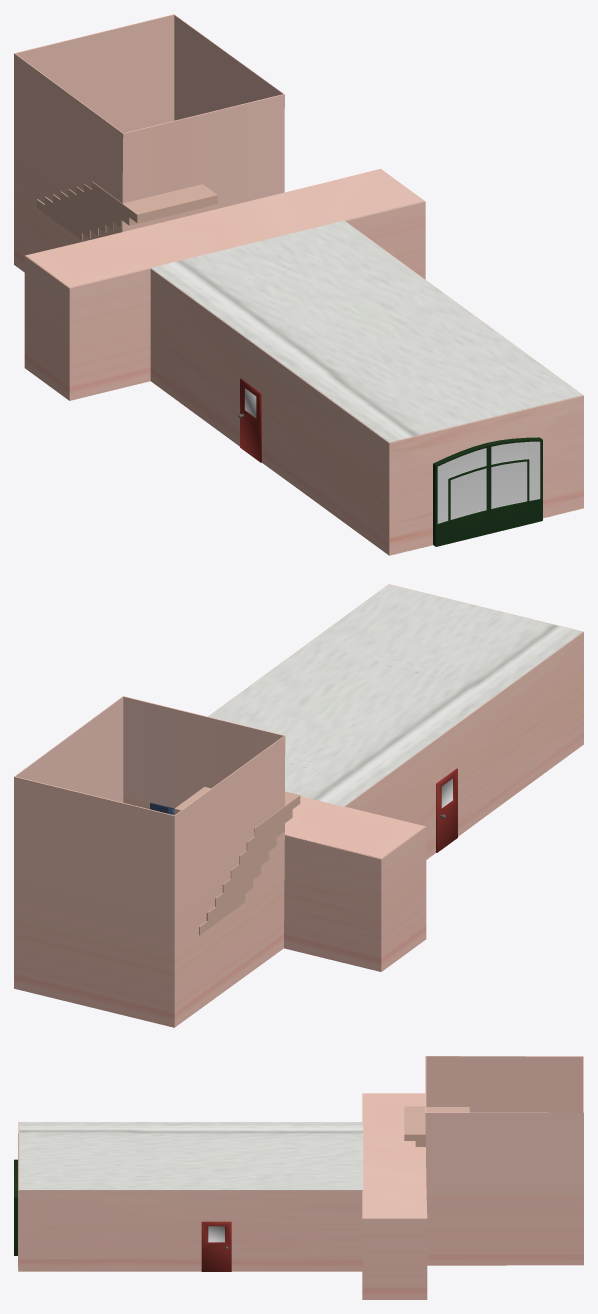
Rendered from Escuela3.fbx.
3 views of the same model, one above another, from view 1: azimuth 30°, elevation 25°; view 2: azimuth 150°, elevation 25°; view 3: azimuth 270°, elevation 25° (orthographic). The views are drawn at different scales.
Visible parts, largest first — view 1: Cube.002, Cube, Cubo.037, Cubo.025, Esfera.002; view 2: Cube.002, Cube, Esfera.002, Cubo.025; view 3: Cube.002, Cube, Esfera.001, Cubo.025, Cubo.037.
Boxes of the visible parts, bbox=[...] form: Cube.002: bbox=[14, 14, 583, 555]; Cube: bbox=[26, 169, 583, 555]; Cubo.037: bbox=[433, 437, 542, 546]; Cubo.025: bbox=[92, 181, 217, 222]; Esfera.002: bbox=[240, 378, 261, 462]; Cube.002: bbox=[14, 584, 583, 1027]; Cube: bbox=[208, 584, 582, 859]; Esfera.002: bbox=[436, 768, 457, 852]; Cubo.025: bbox=[174, 786, 300, 836]; Cube.002: bbox=[18, 1056, 583, 1299]; Cube: bbox=[18, 1093, 426, 1270]; Esfera.001: bbox=[201, 1221, 231, 1271]; Cubo.025: bbox=[404, 1106, 469, 1140]; Cubo.037: bbox=[14, 1159, 17, 1255].
Size of the model in its own units: 1410 by 801 by 2707.
